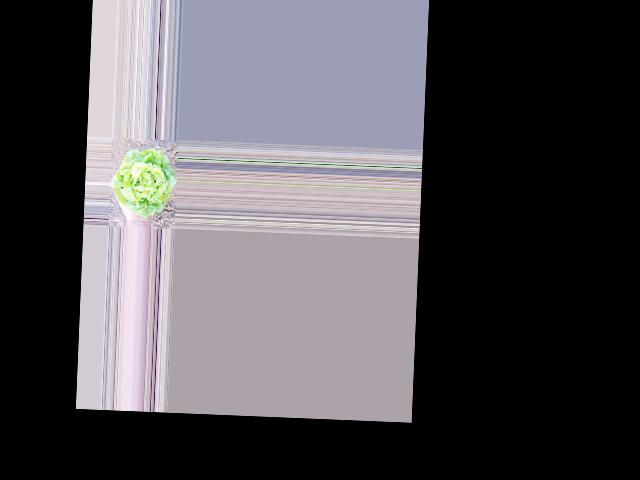lettuce: (111, 145, 176, 214)
